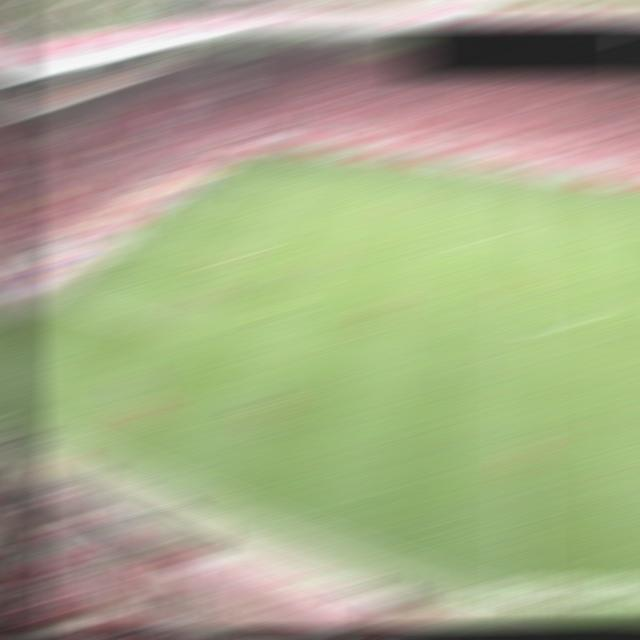bigarea_bottom_inner: (142, 324, 174, 329)
bigarea_bottom_outter: (35, 298, 67, 303)
bigarea_top_inner: (288, 179, 320, 184)
bigarea_top_outter: (205, 170, 239, 177)
bottom_arc_area_intersection: (203, 259, 237, 265)
corner: (240, 148, 274, 154)
halfcircle_bottom: (504, 321, 538, 332)
halfcircle_top: (504, 235, 539, 244)
midline_bottom_intersection: (492, 589, 552, 616)
midline_top_intersection: (503, 172, 538, 179)
smallarea_bottom_inner: (127, 253, 160, 259)
smallarea_bottom_outter: (97, 250, 130, 256)
smallarea_top_inner: (198, 198, 231, 204)
smallarea_top_outter: (171, 195, 204, 200)
top_arc_area_intersection: (254, 209, 286, 215)
